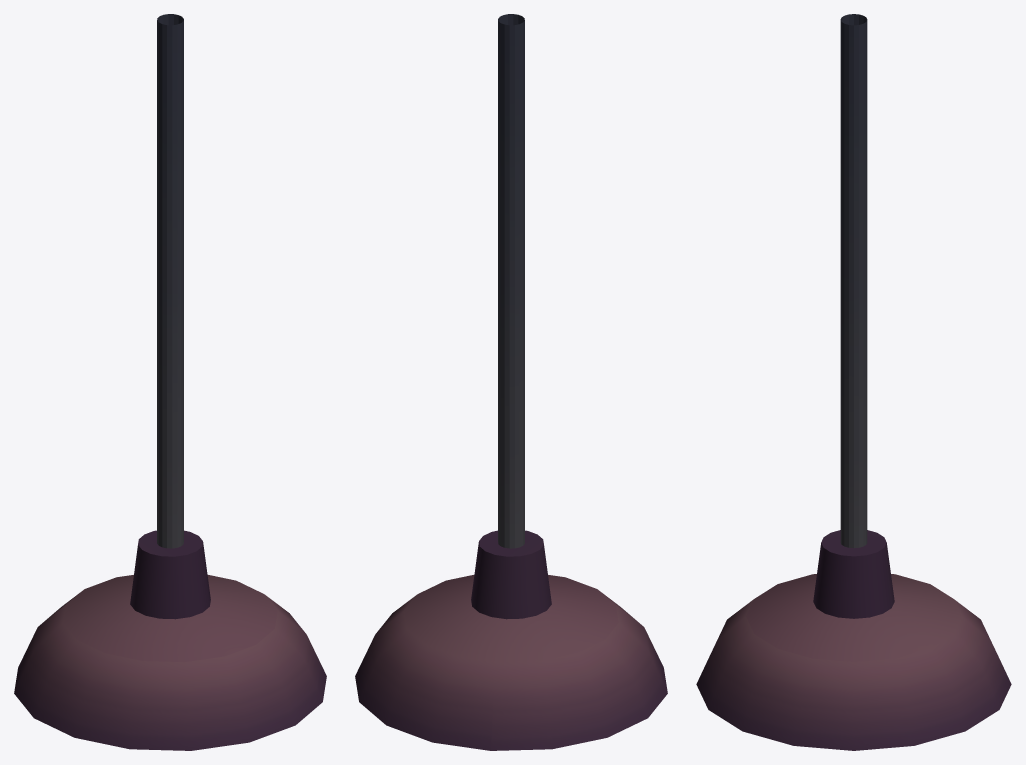
Rendered from CeilingLight.fbx.
3 renders of one model, left to right at view 1: azimuth 30°, elevation 25°; view 2: azimuth 150°, elevation 25°; view 3: azimuth 270°, elevation 25°, orthographic.
Parts seen in each view (by area): view 1: CeilingLight_Stand; view 2: CeilingLight_Stand; view 3: CeilingLight_Stand.
Boxes of the visible parts, bbox=[...] form: CeilingLight_Stand: bbox=[14, 14, 326, 750]; CeilingLight_Stand: bbox=[355, 14, 667, 750]; CeilingLight_Stand: bbox=[696, 14, 1011, 750].
Bounding box in the file's own units: 79.2 × 185 × 79.2.
